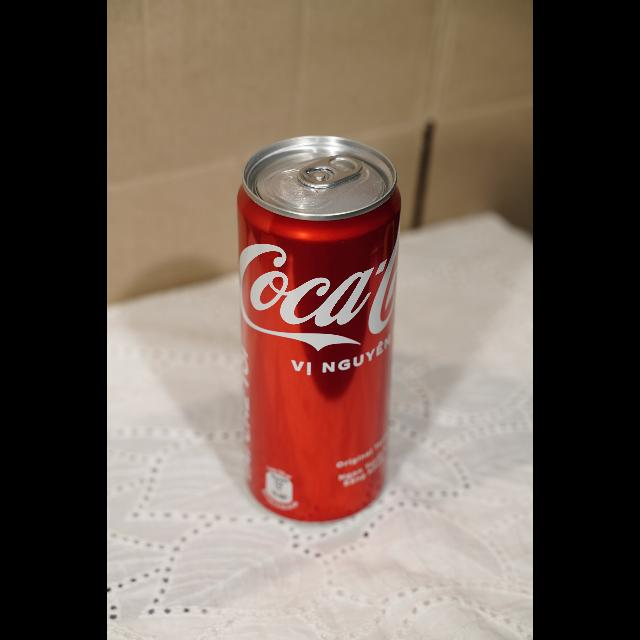coca_cola: (236, 134, 402, 524)
